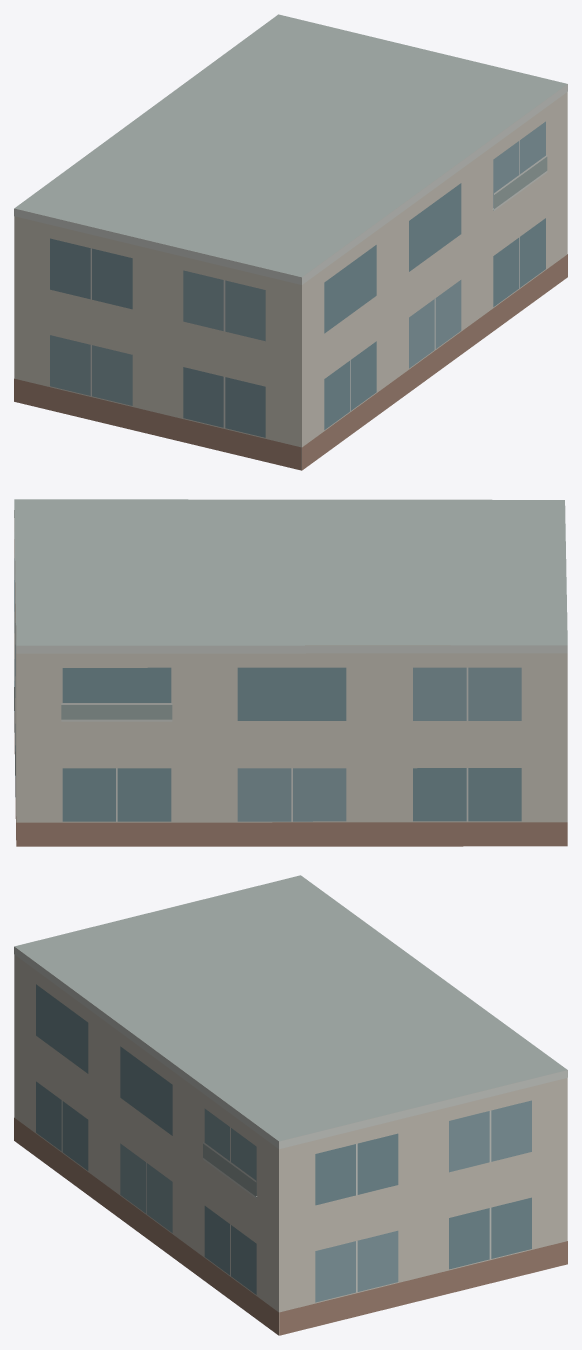
File: survey-upis-32527373.glb
3 views of the same model, one above another, from view 1: azimuth 30°, elevation 25°; view 2: azimuth 150°, elevation 25°; view 3: azimuth 270°, elevation 25° (orthographic). The views are drawn at different scales.
Visible parts, largest first — view 1: survey-upis-32527373.tmp; view 2: survey-upis-32527373.tmp; view 3: survey-upis-32527373.tmp.
Part boxes in pixels (left/top/right/bottom): survey-upis-32527373.tmp: left=14, top=14, right=567, bottom=470; survey-upis-32527373.tmp: left=14, top=499, right=567, bottom=846; survey-upis-32527373.tmp: left=14, top=875, right=567, bottom=1335.
Bounding box in the file's own units: 17.95 × 6.1 × 15.77.
